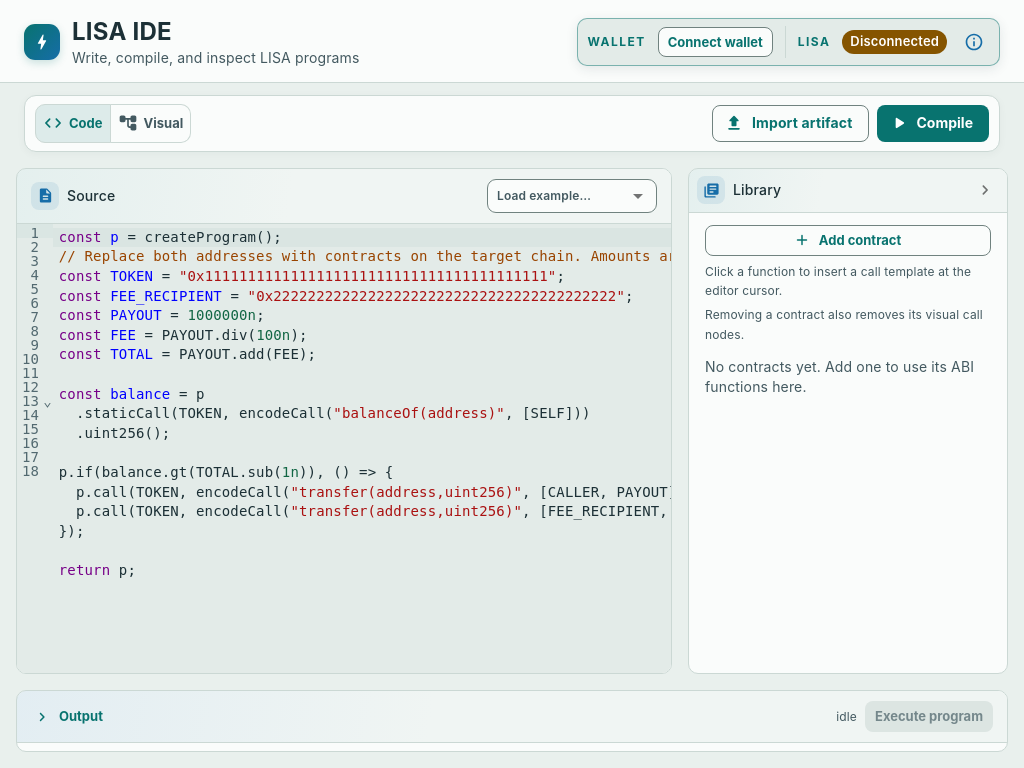
App › compiles source and shows bytecode and disassembly
The width and height of the screenshot is (1024, 768).
Click the button "Compile" at (933, 123), box top-left (876, 105), bottom-right (989, 142)
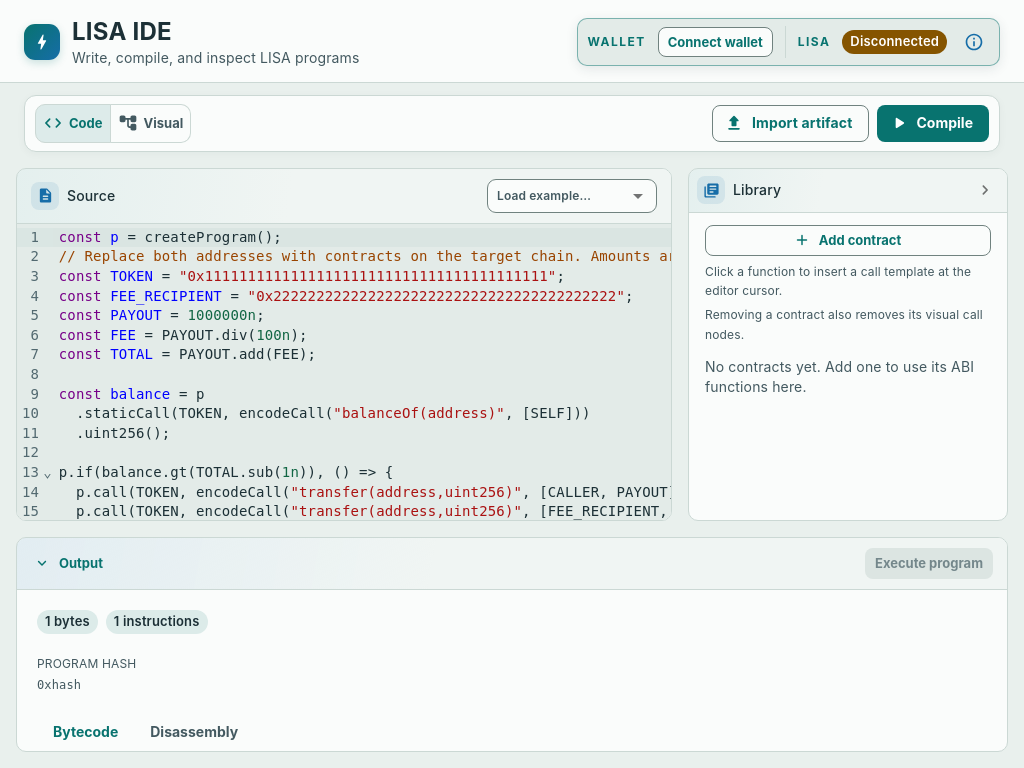
Check: the text "1 bytes" is shown, box top-left (45, 613), bottom-right (90, 629)
Click the tab "Disassembly" at (194, 732), box top-left (134, 708), bottom-right (254, 756)
(page scrolled)
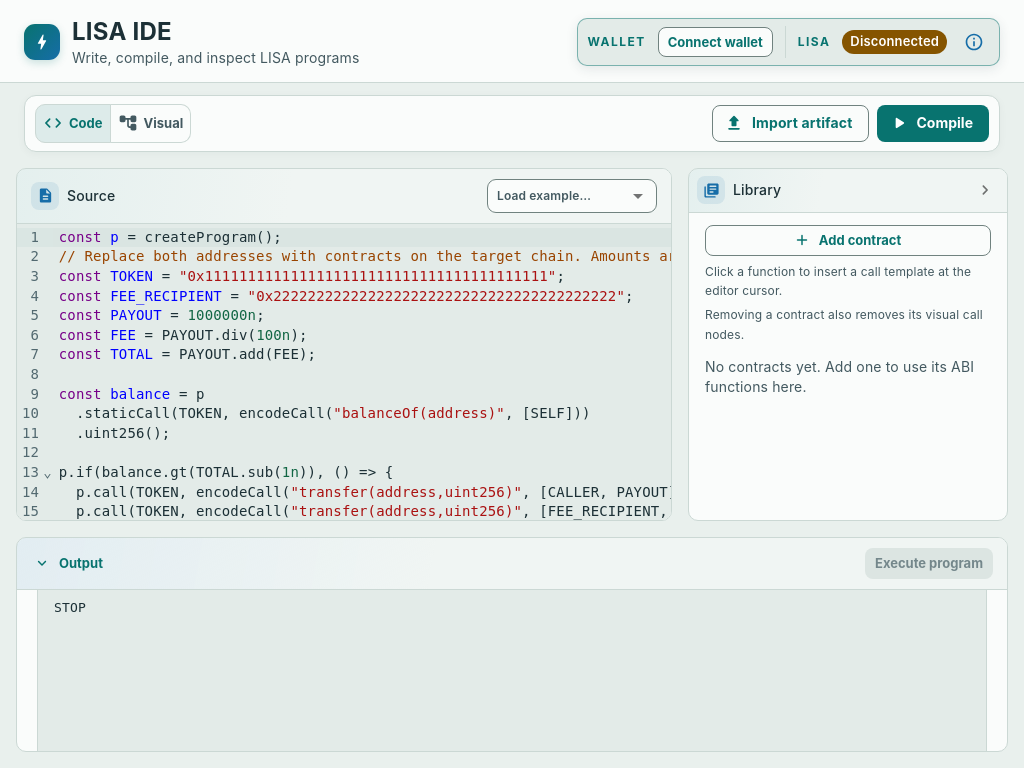
Check: the text named "Disassembly" reads "STOP", box top-left (54, 600), bottom-right (86, 615)
